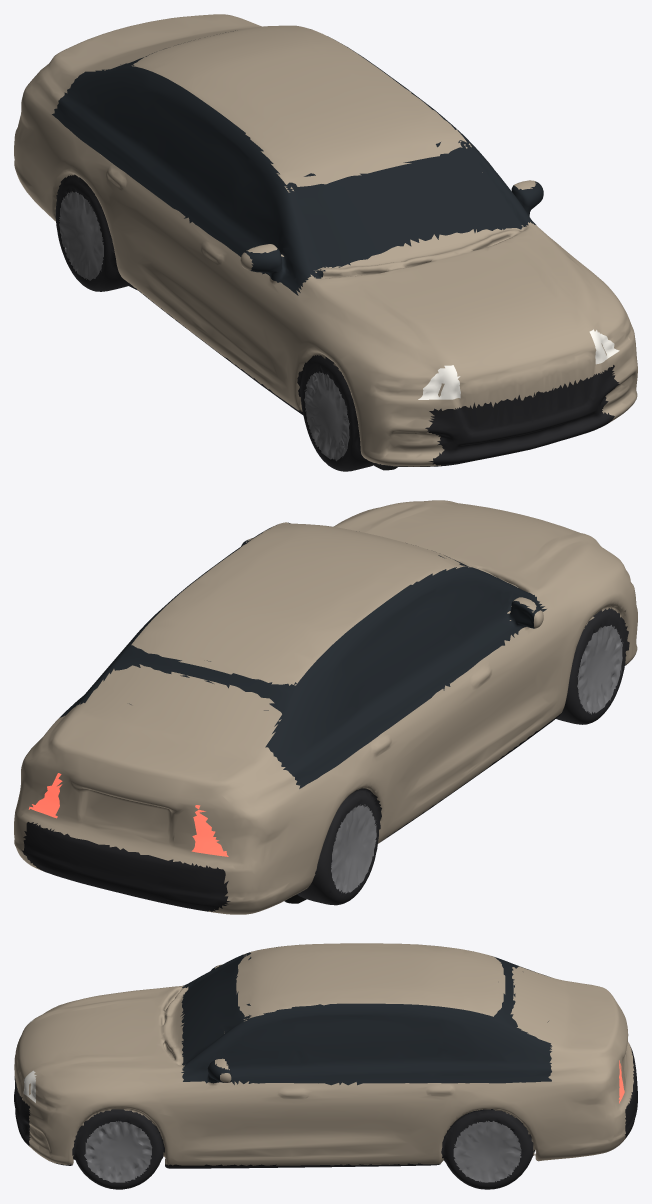
The model's file is LuxurySedan.fbx.
3 views of the same model, one above another, from view 1: azimuth 30°, elevation 25°; view 2: azimuth 150°, elevation 25°; view 3: azimuth 270°, elevation 25° (orthographic). The views are drawn at different scales.
Visible parts, largest first — view 1: Body_Paint, Glass, Body_Trim, Wheel_FL_rim, Wheel_RL_rim, Wheel_FL_tyre, Wheel_RL_tyre, LightsFront; view 2: Body_Paint, Glass, Body_Trim, Wheel_RL_rim, Wheel_FL_rim, Wheel_RL_tyre, Wheel_FL_tyre, LightsRear; view 3: Body_Paint, Glass, Wheel_RR_rim, Wheel_FR_rim, Wheel_RR_tyre, Wheel_FR_tyre, Body_Trim.
Boxes of the visible parts, x1,y1,x2,y2 form: Body_Paint: (14, 14, 637, 466); Glass: (52, 30, 543, 295); Body_Trim: (122, 278, 619, 466); Wheel_FL_rim: (304, 371, 349, 461); Wheel_RL_rim: (59, 192, 103, 280); Wheel_FL_tyre: (297, 355, 375, 471); Wheel_RL_tyre: (55, 174, 130, 291); LightsFront: (418, 329, 619, 399); Body_Paint: (14, 500, 637, 914); Glass: (59, 522, 546, 788); Body_Trim: (21, 664, 626, 911); Wheel_RL_rim: (331, 804, 376, 893); Wheel_FL_rim: (577, 625, 623, 714); Wheel_RL_tyre: (297, 788, 381, 905); Wheel_FL_tyre: (556, 608, 629, 724); LightsRear: (28, 773, 228, 856); Body_Paint: (14, 943, 634, 1165); Glass: (180, 946, 552, 1085); Wheel_RR_rim: (453, 1120, 521, 1182); Wheel_FR_rim: (84, 1120, 152, 1182); Wheel_RR_tyre: (441, 1109, 533, 1189); Wheel_FR_tyre: (72, 1109, 164, 1189); Body_Trim: (14, 1046, 637, 1168).
Bounding box in the file's own units: 769 × 585 × 1850.
